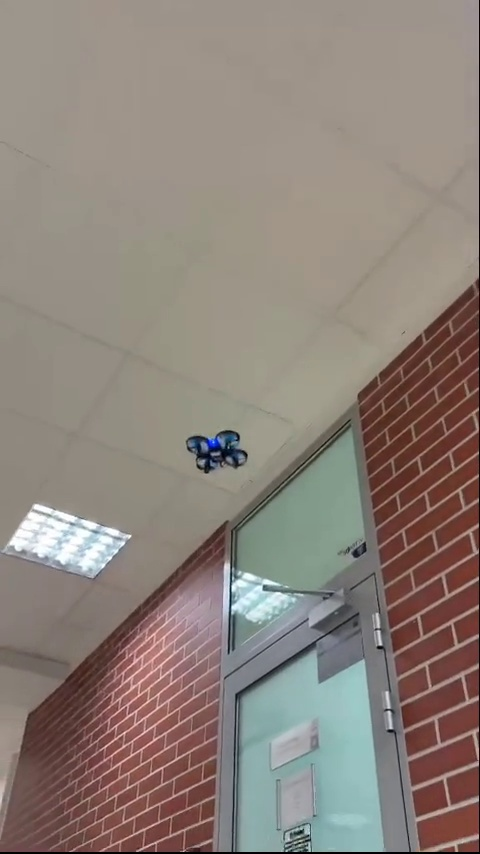drone: (185, 430, 249, 476)
